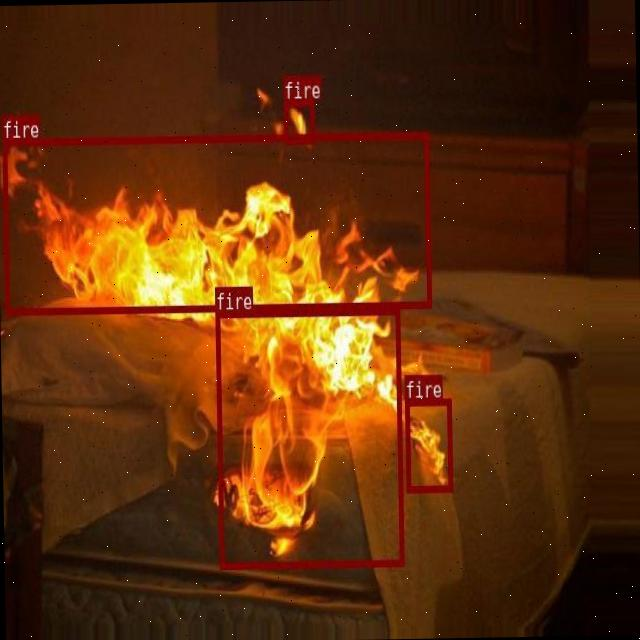fire: (2, 132, 430, 314), (215, 306, 402, 568), (403, 396, 451, 492), (282, 99, 314, 144)
